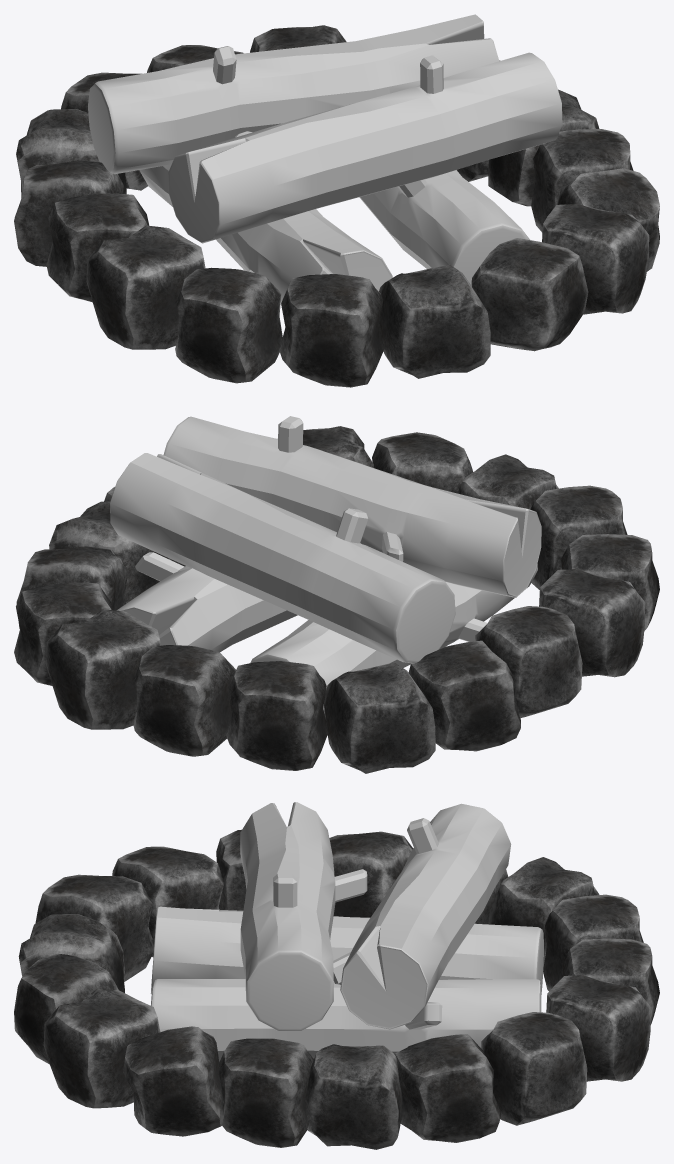
The model's file is SM_Fireplace.fbx.
3 renders of one model, top to bottom at view 1: azimuth 30°, elevation 25°; view 2: azimuth 150°, elevation 25°; view 3: azimuth 270°, elevation 25°, orthographic. The views are drawn at different scales.
Visible parts, largest first — view 1: SM_Log1, SM_Log3, rock9, rock8, rock6, rock7, rock16, SM_Log2, SM_Log, rock15, rock10, rock (+7 smaller); view 2: SM_Log3, SM_Log1, rock1, rock4, rock2, rock3, SM_Log2, rock, rock10, rock9, SM_Log, rock7 (+7 smaller); view 3: SM_Log3, SM_Log1, SM_Log2, SM_Log, rock15, rock5, rock11, rock14, rock12, rock13, rock4, rock7 (+8 smaller).
Part boxes in pixels (x1,y1,x2,y2): SM_Log1: [168, 52, 562, 243]; SM_Log3: [88, 14, 498, 174]; rock9: [86, 225, 205, 349]; rock8: [175, 267, 282, 383]; rock6: [379, 264, 490, 378]; rock7: [279, 274, 384, 387]; rock16: [471, 238, 588, 351]; SM_Log2: [359, 170, 529, 286]; SM_Log: [139, 164, 392, 302]; rock15: [542, 203, 649, 314]; rock10: [46, 193, 149, 302]; rock: [14, 160, 123, 266]; SM_Log3: [110, 453, 455, 663]; SM_Log1: [163, 416, 541, 597]; rock1: [324, 663, 435, 773]; rock4: [46, 609, 160, 729]; rock2: [226, 661, 328, 770]; rock3: [133, 645, 235, 756]; SM_Log2: [116, 552, 297, 651]; rock: [408, 640, 520, 751]; rock10: [475, 606, 582, 718]; rock9: [539, 569, 645, 677]; SM_Log: [250, 564, 537, 713]; rock7: [529, 485, 627, 590]; SM_Log3: [333, 803, 511, 1029]; SM_Log1: [240, 802, 367, 1030]; SM_Log2: [151, 979, 541, 1061]; SM_Log: [150, 906, 543, 997]; rock15: [43, 989, 160, 1108]; rock5: [481, 1012, 587, 1125]; rock11: [395, 1034, 501, 1142]; rock14: [123, 1026, 221, 1136]; rock12: [305, 1044, 402, 1149]; rock13: [218, 1038, 314, 1147]; rock4: [546, 975, 650, 1081]; rock7: [35, 874, 154, 981].
Bounding box in the file's own units: 55.08 × 19.92 × 59.97.
